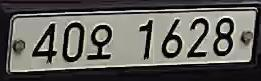0: (61, 20, 85, 63)
1: (134, 17, 156, 61)
2: (186, 15, 211, 60)
4: (30, 21, 59, 66)
6: (158, 17, 185, 59)
8: (211, 15, 237, 57)
오: (85, 20, 114, 65)
